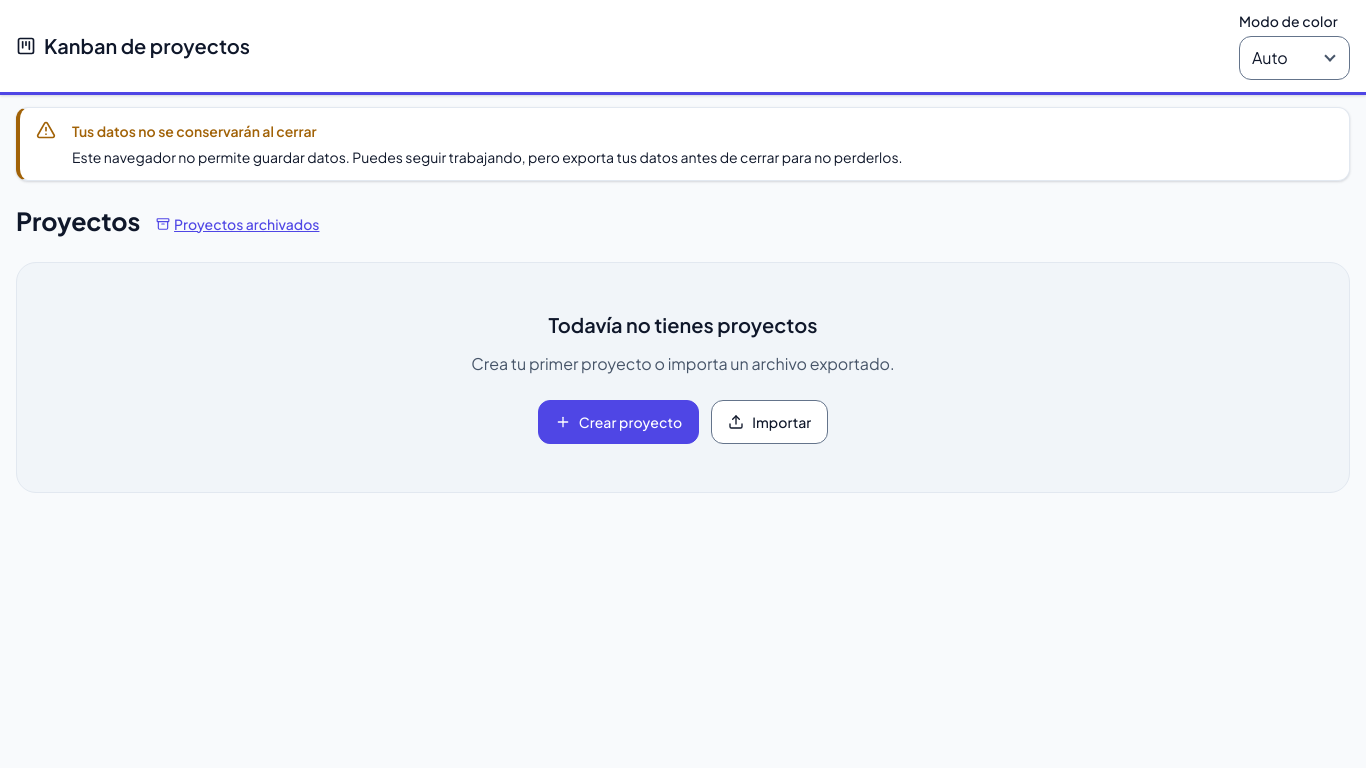
Test case: App: "Importar" del estado vacío (AC-034) › sin IndexedDB (AC-037) › muestra un aviso permanente y permite crear proyectos en memoria
Expected: the message shows "Tus datos no se conservarán al cerrar", [72,122,317,140]
Click the button "Crear proyecto": click(618, 422) [538,400,699,444]
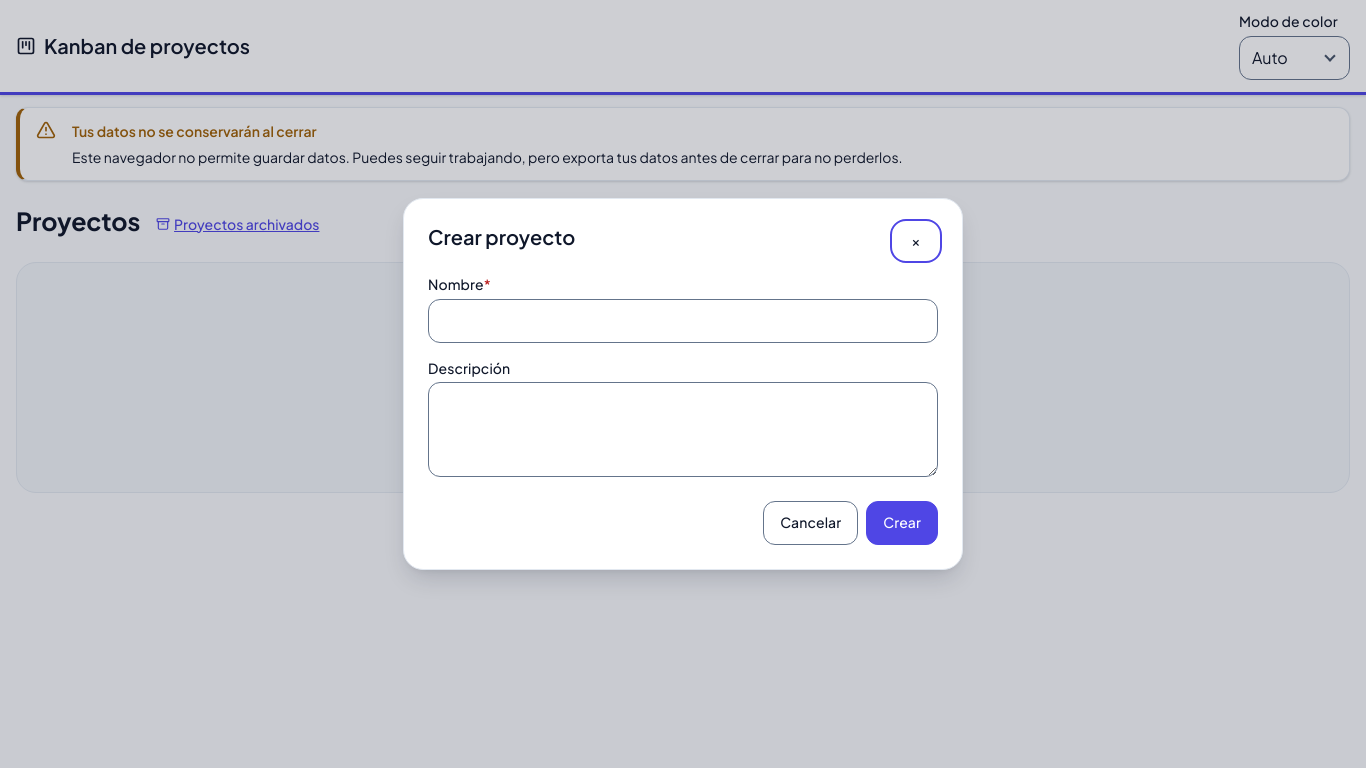
In the field labelled "Nombre*": (683, 321) [428,299,938,343], type "Mi app"
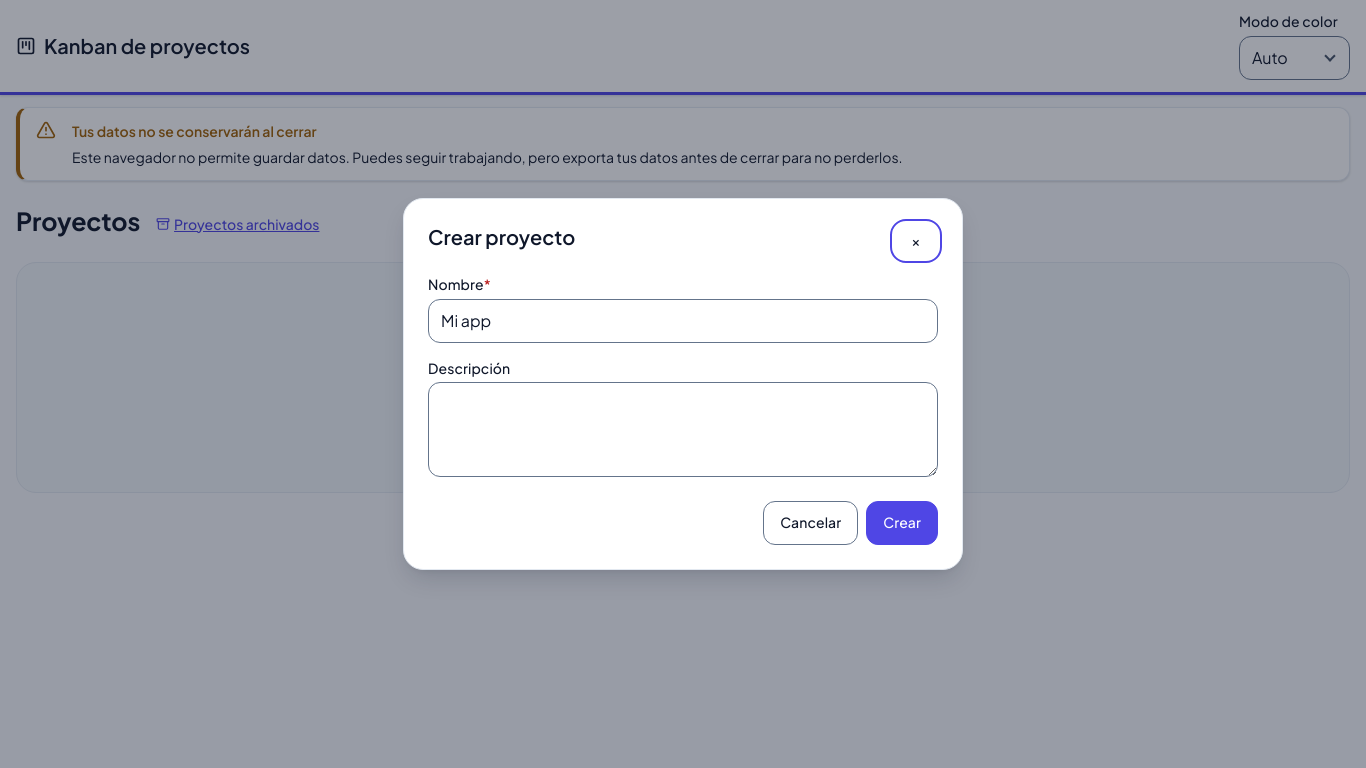
Click the button "Crear": click(902, 523) [866,501,938,545]
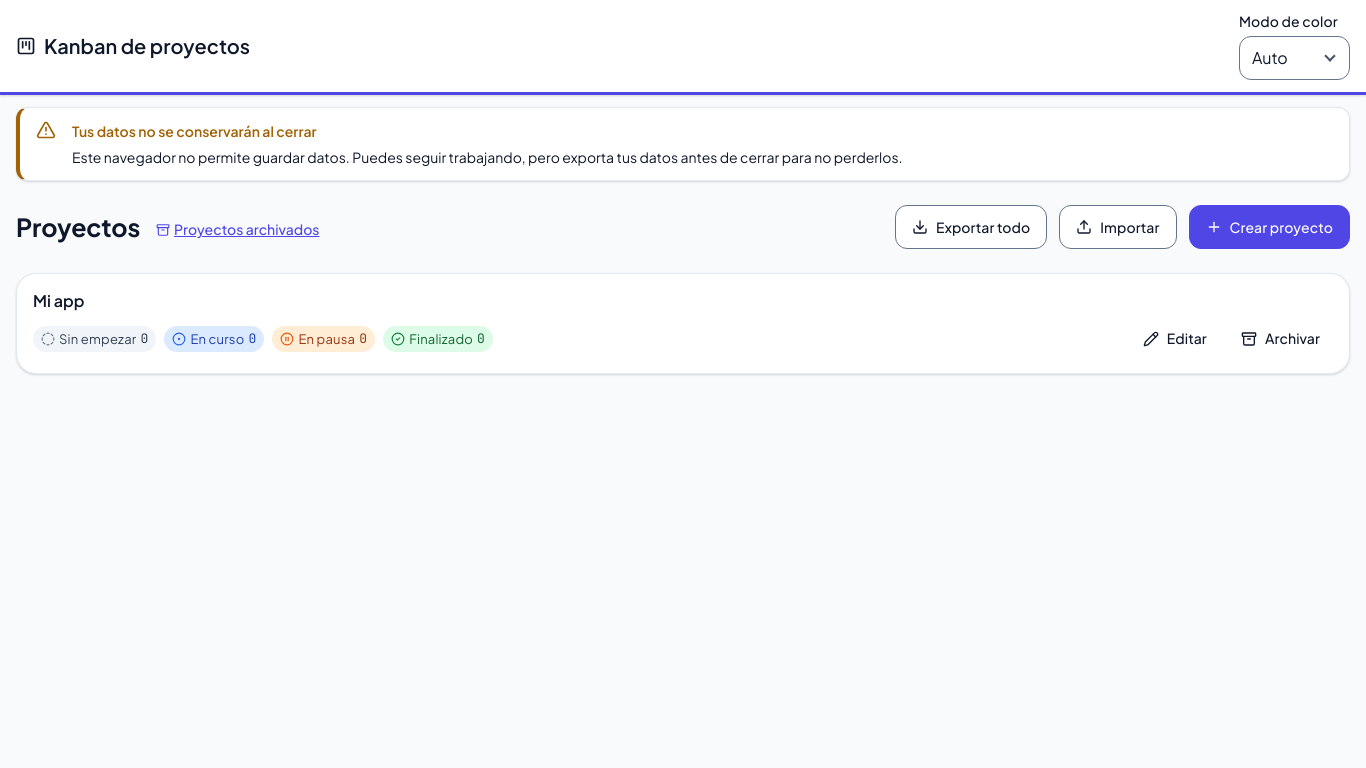
Expected: the text "Tus datos no se conservarán al cerrar" is shown, [72,122,317,140]
Now the button "Mi app" is shown, box [33,290,84,313]
